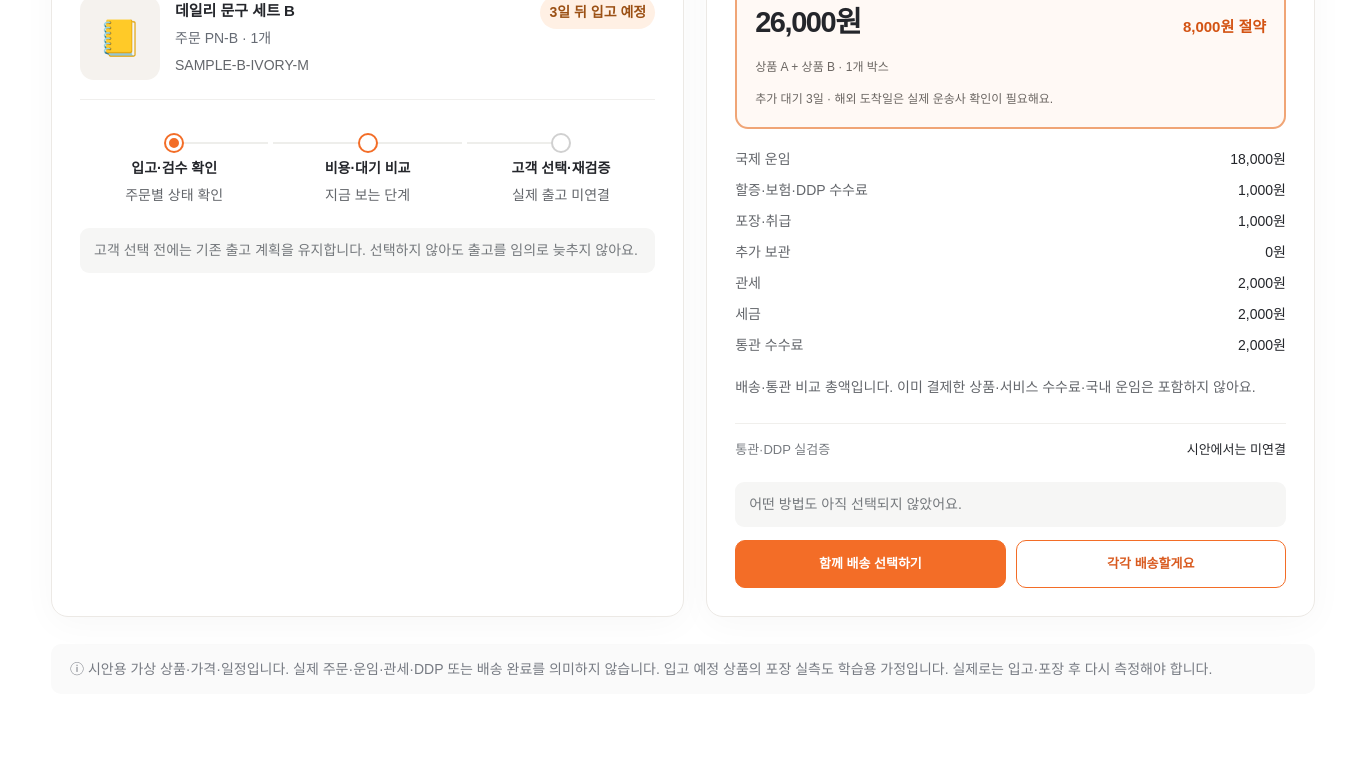
compiler-driven preview › recalculates scenarios and clears the previous demo choice
(page scrolled)
Click the button "함께 배송 선택하기": (870,564) [735, 540, 1006, 588]
(page scrolled)
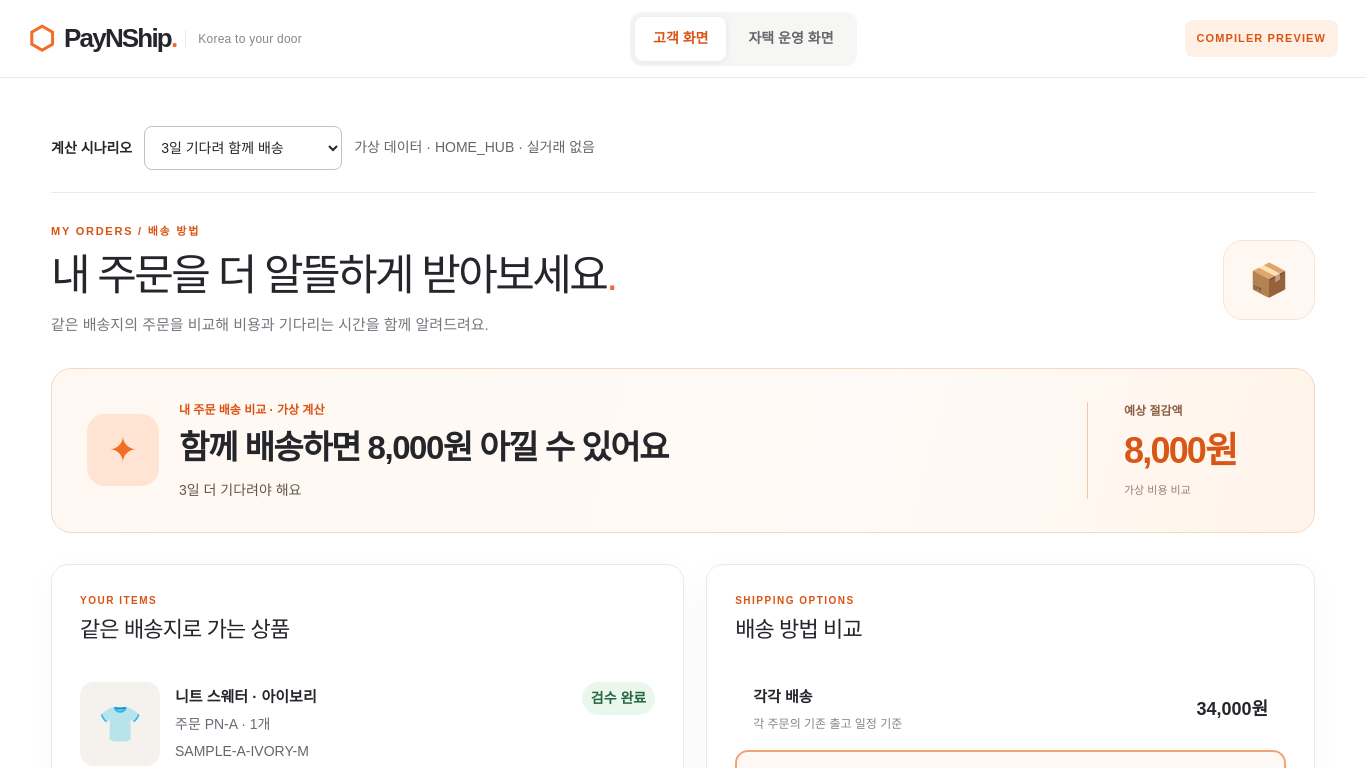
Select "큰 박스 실측 후 재계산" in the dropdown labelled "계산 시나리오": (243,148) [144, 126, 342, 170]
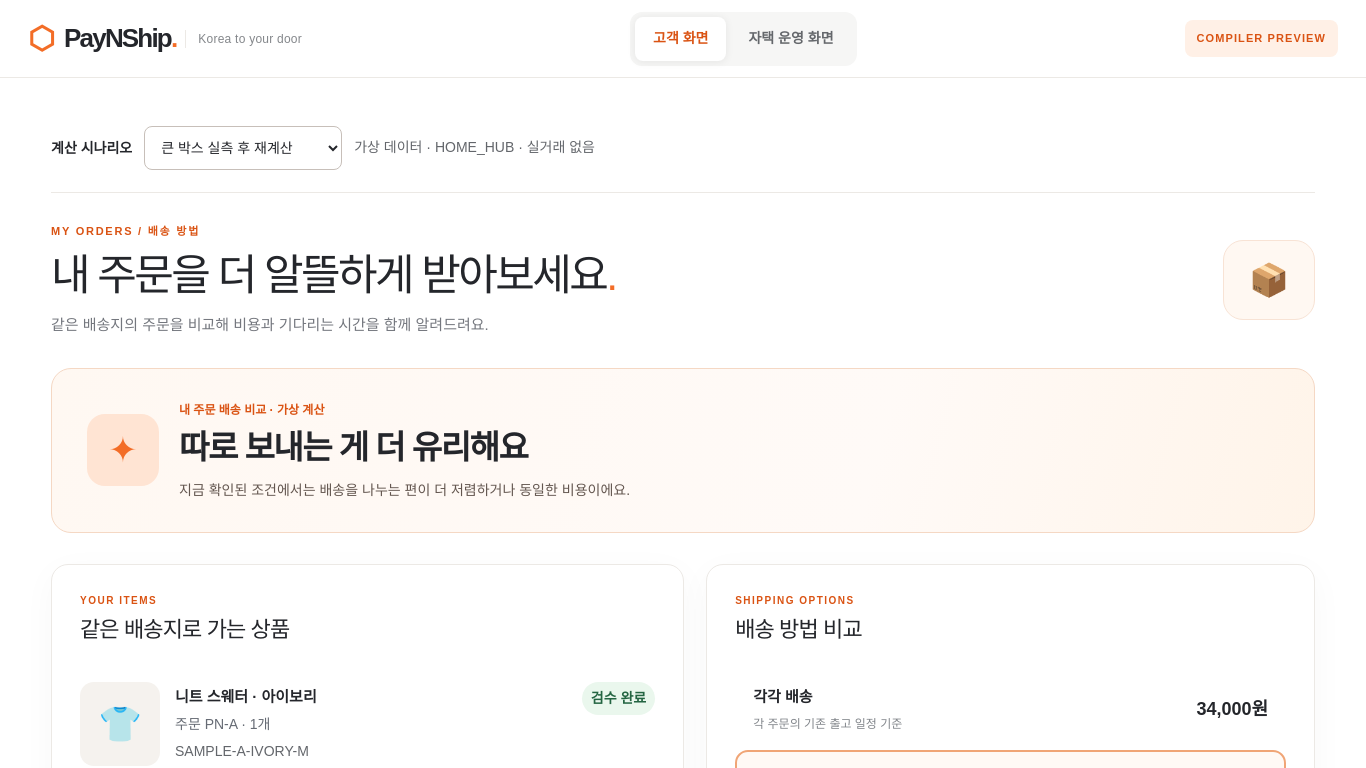
Expected: the button "함께 배송 선택하기" is not shown
Expected: the heading "따로 보내는 게 더 유리해요" is shown, [179, 429, 527, 466]
